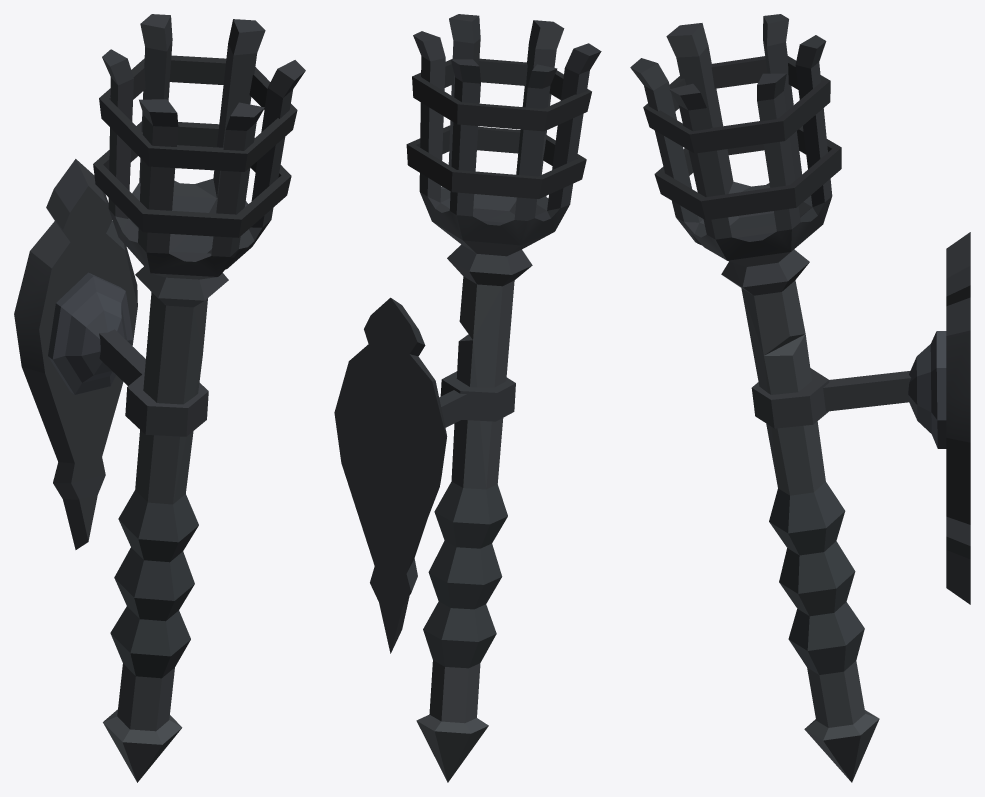
The model's file is SM_Prop_Wall_Torch_02.fbx.
3 views of the same model, side by side, from view 1: azimuth 30°, elevation 25°; view 2: azimuth 150°, elevation 25°; view 3: azimuth 270°, elevation 25° (orthographic). The views are drawn at different scales.
Parts seen in each view (by area): view 1: SM_Prop_Wall_Torch_02; view 2: SM_Prop_Wall_Torch_02; view 3: SM_Prop_Wall_Torch_02.
Boxes of the visible parts, box(x1,y1,x2,y2) form: SM_Prop_Wall_Torch_02: box(14, 14, 305, 782); SM_Prop_Wall_Torch_02: box(334, 14, 601, 782); SM_Prop_Wall_Torch_02: box(630, 14, 970, 782).
Bounding box in the file's own units: 17.54 × 83.25 × 34.62.
